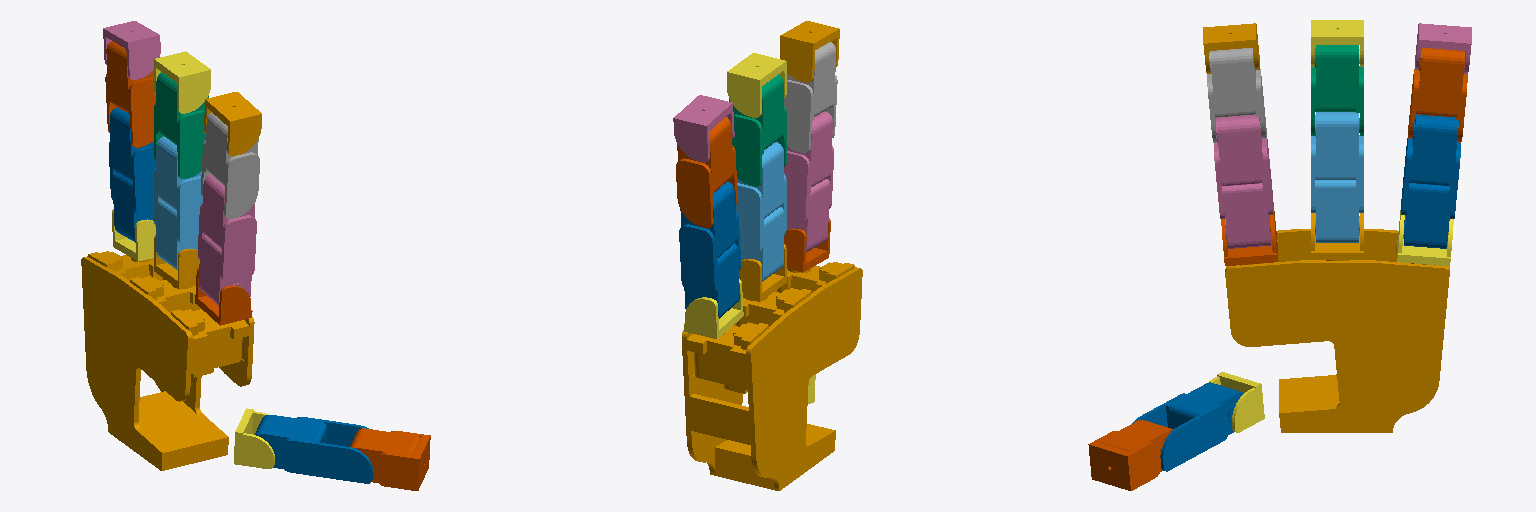
robot.urdf — allegro_left:
<?xml version="1.0" encoding="utf-8"?>
<robot name="allegro_left">
  <link name="base_link">
    <inertial>
      <mass value="0.4154"/>
      <origin rpy="0 0 0" xyz="0 0 0"/>
      <inertia ixx="1e-4" ixy="0" ixz="0" iyy="1e-4" iyz="0" izz="1e-4"/>
    </inertial>
    <visual>
      <geometry>
        <mesh filename="meshes/visual/base_link_left.obj"/>
      </geometry>
      <origin rpy="-1.570795 0 0" xyz="0 0 0 "/>
    </visual>
    <collision>
      <origin rpy="0 0 0" xyz="-0.009 0.0 -0.023"/>
      <geometry>
        <box size="0.0414 0.112 0.0448"/>
      </geometry>
    </collision>
    <collision>
      <origin rpy="0 0 0" xyz="-0.009 0.0253 -0.0667"/>
      <geometry>
        <box size="0.0414 0.0538 0.0428"/>
      </geometry>
    </collision>
    <collision>
      <origin rpy="0 0 0" xyz="-0.009300 0.00557 -0.08874"/>
      <geometry>
        <box size="0.0414 0.0720 0.013"/>
      </geometry>
    </collision>
  </link>

  <!--  virtual link-->
  <link name="palm"/>
  <joint name="palm_joint" type="fixed">
    <parent link="base_link"/>
    <child link="palm"/>
    <origin rpy="0.00000 -0.00000 0.00000" xyz="0 0 -0.065"/>
  </joint>

  <!--  virtual link-->
  <link name="wrist"/>
  <joint name="wrist_joint" type="fixed">
    <origin rpy="0 0 0" xyz="0 0 -0.03"/>
    <parent link="palm"/>
    <child link="wrist"/>
  </joint>

  <link name="link_0.0">
    <visual>
      <geometry>
        <mesh filename="meshes/visual/link_0.0.obj"/>
      </geometry>
    </visual>
    <collision>
      <geometry>
        <box size="0.0196 0.0275 0.0164"/>
      </geometry>
      <origin rpy="0 0 0" xyz="0 0 0.0082"/>
    </collision>
    <inertial>
      <mass value="0.005"/>
      <origin xyz="0 0 0"/>
      <inertia ixx="5.1458e-05" iyy="5.1458e-05" izz="6.125e-05" ixy="0" ixz="0" iyz="0"/>
    </inertial>
  </link>
  <joint name="joint_0.0" type="revolute">
    <axis xyz="0 0 1"/>
    <limit effort="10" lower="-0.47" upper="0.47" velocity="0"/>
    <parent link="base_link"/>
    <child link="link_0.0"/>
    <origin rpy="-0.08726646255 0 0" xyz="0 0.0435 -0.001542"/>
  </joint>
  <link name="link_1.0">
    <inertial>
      <mass value="0.125164"/>
      <origin xyz="0.027 0 0"/>
      <inertia ixx="6.39979e-06" iyy="8.88687e-05" izz="9.13751e-05" ixy="-3.26531e-06" ixz="1.23963e-05"
               iyz="2.07384e-05"/>
    </inertial>
    <visual>
      <geometry>
        <mesh filename="meshes/visual/link_1.0.obj"/>
      </geometry>
    </visual>
    <collision>
      <geometry>
        <box size="0.0196 0.0275 0.054"/>
      </geometry>
      <origin rpy="0 0 0" xyz="0 0 0.027"/>
    </collision>
  </link>
  <joint name="joint_1.0" type="revolute">
    <limit effort="10" lower="-0.196" upper="1.61" velocity="0"/>
    <axis xyz="0 1 0"/>
    <parent link="link_0.0"/>
    <child link="link_1.0"/>
    <origin xyz="0 0 0.0164"/>
  </joint>
  <link name="link_2.0">
    <inertial>
      <mass value="0.131691"/>
      <origin xyz="0.039 0 0"/>
      <inertia ixx="7.04217e-05" iyy="3.95744e-05" izz="6.61125e-05" ixy="-9.64342e-05" ixz="5.8796e-05"
               iyz="-3.62996e-05"/>
    </inertial>
    <visual>
      <geometry>
        <mesh filename="meshes/visual/link_2.0.obj"/>
      </geometry>
    </visual>
    <collision>
      <geometry>
        <box size="0.0196 0.0275 0.0384"/>
      </geometry>
      <origin rpy="0 0 0" xyz="0 0 0.0192"/>
    </collision>
  </link>
  <joint name="joint_2.0" type="revolute">
    <axis xyz="0 1 0"/>
    <limit effort="10" lower="-0.174" upper="1.709" velocity="0"/>
    <parent link="link_1.0"/>
    <child link="link_2.0"/>
    <origin xyz="0 0 0.054"/>
  </joint>
  <link name="link_3.0">
    <inertial>
      <mass value="0.0388"/>
      <origin xyz="0 0 0" rpy="0 0 0"/>
      <inertia ixx="3.29223173333e-05" ixy="8.042076e-06" ixz="5.2283e-06"
               iyy="1.47493026667e-5" iyz="1.1283525e-5" izz="3.29223173333e-05"/>
    </inertial>
    <visual>
      <geometry>
        <mesh filename="meshes/visual/link_3.0.obj"/>
      </geometry>
    </visual>
    <collision>
      <geometry>
        <box size="0.0196 0.0269 0.022"/>
      </geometry>
      <origin rpy="0 0 0" xyz="0 0 0.0047"/>
    </collision>
    <inertial>
      <origin rpy="0 0 0" xyz="0 0 0.01335"/>
      <mass value="0.02"/>
      <inertia ixx="1e-5" ixy="0.0" ixz="0.0" iyy="2e-5" iyz="0.0" izz="2e-5"/>
    </inertial>
  </link>
  <joint name="joint_3.0" type="revolute">
    <axis xyz="0 1 0"/>
    <limit effort="10" lower="-0.227" upper="1.618" velocity="0"/>
    <parent link="link_2.0"/>
    <child link="link_3.0"/>
    <origin xyz="0 0 0.0384"/>
  </joint>
  <link name="link_3.0_tip">
    <visual>
      <geometry>
        <mesh filename="meshes/visual/link_tip.obj"/>
      </geometry>
    </visual>
    <collision>
      <geometry>
      <mesh filename="meshes/collision/link_tip.obj"/>
      </geometry>
    </collision>
  </link>
  <joint name="joint_3.0_tip" type="fixed">
    <parent link="link_3.0"/>
    <child link="link_3.0_tip"/>
    <origin rpy="0 0 0" xyz="0 0 0.0267"/>
  </joint>
  <link name="link_4.0">
    <inertial>
      <mass value="0.005"/>
      <origin xyz="0 0 0"/>
      <inertia ixx="5.1458e-05" iyy="5.1458e-05" izz="6.125e-05" ixy="0" ixz="0" iyz="0"/>
    </inertial>
    <visual>
      <geometry>
        <mesh filename="meshes/visual/link_0.0.obj"/>
      </geometry>
    </visual>
    <collision>
      <geometry>
        <box size="0.0196 0.0275 0.0164"/>
      </geometry>
      <origin rpy="0 0 0" xyz="0 0 0.0082"/>
    </collision>
  </link>
  <joint name="joint_4.0" type="revolute">
    <axis xyz="0 0 1"/>
    <limit effort="10" lower="-0.47" upper="0.47" velocity="0"/>
    <parent link="base_link"/>
    <child link="link_4.0"/>
    <origin rpy="0.0 0 0" xyz="0 0 0.0007"/>
  </joint>
  <link name="link_5.0">
    <inertial>
      <mass value="0.125164"/>
      <origin xyz="0.027 0 0"/>
      <inertia ixx="6.39979e-06" iyy="8.88687e-05" izz="9.13751e-05" ixy="-3.26531e-06" ixz="1.23963e-05"
               iyz="2.07384e-05"/>
    </inertial>
    <visual>
      <geometry>
        <mesh filename="meshes/visual/link_1.0.obj"/>
      </geometry>
    </visual>
    <collision>
      <geometry>
        <box size="0.0196 0.0275 0.054"/>
      </geometry>
      <origin rpy="0 0 0" xyz="0 0 0.027"/>
    </collision>
  </link>
  <joint name="joint_5.0" type="revolute">
    <limit effort="10" lower="-0.196" upper="1.61" velocity="0"/>
    <axis xyz="0 1 0"/>
    <parent link="link_4.0"/>
    <child link="link_5.0"/>
    <origin xyz="0 0 0.0164"/>
  </joint>
  <link name="link_6.0">
    <inertial>
      <mass value="0.131691"/>
      <origin xyz="0.039 0 0"/>
      <inertia ixx="7.04217e-05" iyy="3.95744e-05" izz="6.61125e-05" ixy="-9.64342e-05" ixz="5.8796e-05"
               iyz="-3.62996e-05"/>
    </inertial>
    <visual>
      <geometry>
        <mesh filename="meshes/visual/link_2.0.obj"/>
      </geometry>
    </visual>
    <collision>
      <geometry>
        <box size="0.0196 0.0275 0.0384"/>
      </geometry>
      <origin rpy="0 0 0" xyz="0 0 0.0192"/>
    </collision>
  </link>
  <joint name="joint_6.0" type="revolute">
    <axis xyz="0 1 0"/>
    <limit effort="10" lower="-0.174" upper="1.709" velocity="0"/>
    <parent link="link_5.0"/>
    <child link="link_6.0"/>
    <origin xyz="0 0 0.054"/>
  </joint>
  <link name="link_7.0">
    <inertial>
      <mass value="0.0388"/>
      <origin xyz="0 0 0" rpy="0 0 0"/>
      <inertia ixx="3.29223173333e-05" ixy="8.042076e-06" ixz="5.2283e-06"
               iyy="1.47493026667e-5" iyz="1.1283525e-5" izz="3.29223173333e-05"/>
    </inertial>
    <visual>
      <geometry>
        <mesh filename="meshes/visual/link_3.0.obj"/>
      </geometry>
    </visual>
    <collision>
      <geometry>
        <box size="0.0196 0.0269 0.022"/>
      </geometry>
      <origin rpy="0 0 0" xyz="0 0 0.0047"/>
    </collision>
  </link>
  <joint name="joint_7.0" type="revolute">
    <axis xyz="0 1 0"/>
    <limit effort="10" lower="-0.227" upper="1.618" velocity="0"/>
    <parent link="link_6.0"/>
    <child link="link_7.0"/>
    <origin xyz="0 0 0.0384"/>
  </joint>
  <link name="link_7.0_tip">
    <visual>
      <geometry>
        <mesh filename="meshes/visual/link_tip.obj"/>
      </geometry>
    </visual>
    <collision>
      <geometry>
        <mesh filename="meshes/collision/link_tip.obj"/>
      </geometry>
    </collision>
  </link>
  <joint name="joint_7.0_tip" type="fixed">
    <parent link="link_7.0"/>
    <child link="link_7.0_tip"/>
    <origin rpy="0 0 0" xyz="0 0 0.0267"/>
  </joint>
  <link name="link_8.0">
    <inertial>
      <mass value="0.005"/>
      <origin xyz="0 0 0"/>
      <inertia ixx="5.1458e-05" iyy="5.1458e-05" izz="6.125e-05" ixy="0" ixz="0" iyz="0"/>
    </inertial>
    <visual>
      <geometry>
        <mesh filename="meshes/visual/link_0.0.obj"/>
      </geometry>
    </visual>
    <collision>
      <geometry>
        <box size="0.0196 0.0275 0.0164"/>
      </geometry>
      <origin rpy="0 0 0" xyz="0 0 0.0082"/>
    </collision>
  </link>
  <joint name="joint_8.0" type="revolute">
    <axis xyz="0 0 1"/>
    <limit effort="10" lower="-0.47" upper="0.47" velocity="0"/>
    <parent link="base_link"/>
    <child link="link_8.0"/>
    <origin rpy="0.08726646255 0 0" xyz="0 -0.0435 -0.001542"/>
  </joint>
  <link name="link_9.0">
    <inertial>
      <mass value="0.125164"/>
      <origin xyz="0.027 0 0"/>
      <inertia ixx="6.39979e-06" iyy="8.88687e-05" izz="9.13751e-05" ixy="-3.26531e-06" ixz="1.23963e-05"
               iyz="2.07384e-05"/>
    </inertial>
    <visual>
      <geometry>
        <mesh filename="meshes/visual/link_1.0.obj"/>
      </geometry>
    </visual>
    <collision>
      <geometry>
        <box size="0.0196 0.0275 0.054"/>
      </geometry>
      <origin rpy="0 0 0" xyz="0 0 0.027"/>
    </collision>
  </link>
  <joint name="joint_9.0" type="revolute">
    <limit effort="10" lower="-0.196" upper="1.61" velocity="0"/>
    <axis xyz="0 1 0"/>
    <parent link="link_8.0"/>
    <child link="link_9.0"/>
    <origin xyz="0 0 0.0164"/>
  </joint>
  <link name="link_10.0">
    <inertial>
      <mass value="0.131691"/>
      <origin xyz="0.039 0 0"/>
      <inertia ixx="7.04217e-05" iyy="3.95744e-05" izz="6.61125e-05" ixy="-9.64342e-05" ixz="5.8796e-05"
               iyz="-3.62996e-05"/>
    </inertial>
    <visual>
      <geometry>
        <mesh filename="meshes/visual/link_2.0.obj"/>
      </geometry>
    </visual>
    <collision>
      <geometry>
        <box size="0.0196 0.0275 0.0384"/>
      </geometry>
      <origin rpy="0 0 0" xyz="0 0 0.0192"/>
    </collision>
  </link>
  <joint name="joint_10.0" type="revolute">
    <axis xyz="0 1 0"/>
    <limit effort="10" lower="-0.174" upper="1.709" velocity="0"/>
    <parent link="link_9.0"/>
    <child link="link_10.0"/>
    <origin xyz="0 0 0.054"/>
  </joint>
  <link name="link_11.0">
    <inertial>
      <mass value="0.0388"/>
      <origin xyz="0 0 0" rpy="0 0 0"/>
      <inertia ixx="3.29223173333e-05" ixy="8.042076e-06" ixz="5.2283e-06"
               iyy="1.47493026667e-5" iyz="1.1283525e-5" izz="3.29223173333e-05"/>
    </inertial>
    <visual>
      <geometry>
        <mesh filename="meshes/visual/link_3.0.obj"/>
      </geometry>
    </visual>
    <collision>
      <geometry>
        <box size="0.0196 0.0269 0.022"/>
      </geometry>
      <origin rpy="0 0 0" xyz="0 0 0.0047"/>
    </collision>
  </link>
  <joint name="joint_11.0" type="revolute">
    <axis xyz="0 1 0"/>
    <limit effort="10" lower="-0.227" upper="1.618" velocity="0"/>
    <parent link="link_10.0"/>
    <child link="link_11.0"/>
    <origin xyz="0 0 0.0384"/>
  </joint>
  <link name="link_11.0_tip">
    <visual>
      <geometry>
        <mesh filename="meshes/visual/link_tip.obj"/>
      </geometry>
    </visual>
    <collision>
      <geometry>
        <mesh filename="meshes/collision/link_tip.obj"/>
      </geometry>
    </collision>
  </link>
  <joint name="joint_11.0_tip" type="fixed">
    <parent link="link_11.0"/>
    <child link="link_11.0_tip"/>
    <origin rpy="0 0 0" xyz="0 0 0.0267"/>
  </joint>
  <!-- THUMB -->
  <link name="link_12.0">
    <inertial>
      <mass value="0.005"/>
      <origin xyz="0 0 0"/>
      <inertia ixx="5.1458e-05" iyy="5.1458e-05" izz="6.125e-05" ixy="0" ixz="0" iyz="0"/>
    </inertial>
    <visual>
      <geometry>
        <mesh filename="meshes/visual/link_12.0_left.obj"/>
      </geometry>
      <origin rpy="3.14159 0 0" xyz="0 0 0"/>
    </visual>
    <collision>
      <geometry>
        <box size="0.0358 0.034 0.0455"/>
      </geometry>
      <origin rpy="0 0 0" xyz="-0.0179 -0.009 0.0145"/>
    </collision>
  </link>
  <joint name="joint_12.0" type="revolute">
    <axis xyz="1 0 0"/>
    <limit effort="10" lower="0.263" upper="1.396" velocity="0"/>
    <parent link="base_link"/>
    <child link="link_12.0"/>
    <origin xyz="-0.0182 -0.019333 -0.045987" rpy="0 -1.65806278845 1.5707963259"/>
  </joint>
  <link name="link_13.0">
    <inertial>
      <mass value="0.125164"/>
      <origin xyz="0.027 0 0"/>
      <inertia ixx="6.39979e-06" iyy="8.88687e-05" izz="9.13751e-05" ixy="-3.26531e-06" ixz="1.23963e-05"
               iyz="2.07384e-05"/>
    </inertial>
    <visual>
      <geometry>
        <mesh filename="meshes/visual/link_13.0.obj"/>
      </geometry>
    </visual>
    <collision>
      <geometry>
        <box size="0.0196 0.0275 0.0177"/>
      </geometry>
      <origin rpy="0 0 0" xyz="0 0 0.00885"/>
    </collision>
  </link>
  <joint name="joint_13.0" type="revolute">
    <axis xyz="0 0 -1"/>
    <limit effort="10" lower="-0.105" upper="1.163" velocity="0"/>
    <parent link="link_12.0"/>
    <child link="link_13.0"/>
    <origin xyz="-0.027 0.005 0.0399"/>
  </joint>
  <link name="link_14.0">
    <inertial>
      <mass value="0.131691"/>
      <origin xyz="0.039 0 0"/>
      <inertia ixx="7.04217e-05" iyy="3.95744e-05" izz="6.61125e-05" ixy="-9.64342e-05" ixz="5.8796e-05"
               iyz="-3.62996e-05"/>
    </inertial>
    <visual>
      <geometry>
        <mesh filename="meshes/visual/link_14.0.obj"/>
      </geometry>
    </visual>
    <collision>
      <geometry>
        <box size="0.0196 0.0275 0.0514"/>
      </geometry>
      <origin rpy="0 0 0" xyz="0 0 0.0257"/>
    </collision>
  </link>
  <joint name="joint_14.0" type="revolute">
    <axis xyz="0 1 0"/>
    <limit effort="10" lower="-0.189" upper="1.644" velocity="0"/>
    <parent link="link_13.0"/>
    <child link="link_14.0"/>
    <origin xyz="0 0 0.0177"/>
  </joint>
  <link name="link_15.0">
    <inertial>
      <mass value="0.0388"/>
      <origin xyz="0 0 0" rpy="0 0 0"/>
      <inertia ixx="3.29223173333e-05" ixy="8.042076e-06" ixz="5.2283e-06"
               iyy="1.47493026667e-5" iyz="1.1283525e-5" izz="3.29223173333e-05"/>
    </inertial>
    <visual>
      <geometry>
        <mesh filename="meshes/visual/link_15.0.obj"/>
      </geometry>
    </visual>
    <collision>
      <geometry>
        <box size="0.0196 0.0269 0.04"/>
      </geometry>
      <origin rpy="0 0 0" xyz="0 0 0.01125"/>
    </collision>
  </link>
  <joint name="joint_15.0" type="revolute">
    <axis xyz="0 1 0"/>
    <limit effort="10" lower="-0.162" upper="1.719" velocity="0"/>
    <parent link="link_14.0"/>
    <child link="link_15.0"/>
    <origin xyz="0 0 0.0514"/>
  </joint>
  <link name="link_15.0_tip">
    <visual>
      <geometry>
        <mesh filename="meshes/visual/link_tip.obj"/>
      </geometry>
    </visual>
    <collision>
      <geometry>
        <mesh filename="meshes/collision/link_tip.obj"/>
      </geometry>
    </collision>
  </link>
  <joint name="joint_15.0_tip" type="fixed">
    <parent link="link_15.0"/>
    <child link="link_15.0_tip"/>
    <origin rpy="0 0 0" xyz="0 0 0.0423"/>
  </joint>
</robot>

--- Facts derived from the render (not from the file) ---
3 views of the same robot in one strip: view 1: azimuth 30°, elevation 25°; view 2: azimuth 150°, elevation 25°; view 3: azimuth 270°, elevation 25° (orthographic).
Model allegro_left with 23 links and 22 joints (16 revolute, 6 fixed), rooted at base_link, posed all joints at 0 but 1 set to mid-range because 0 is outside their limits (joint_12.0 = 0.8295).
Links seen in each view (by area): view 1: base_link, link_14.0, link_9.0, link_5.0, link_1.0, link_15.0, link_10.0, link_6.0, link_2.0, link_11.0, link_7.0, link_3.0 (+4 smaller); view 2: base_link, link_1.0, link_5.0, link_9.0, link_2.0, link_6.0, link_10.0, link_3.0, link_7.0, link_11.0, link_0.0, link_4.0 (+1 smaller); view 3: base_link, link_9.0, link_1.0, link_5.0, link_14.0, link_15.0, link_10.0, link_2.0, link_6.0, link_13.0, link_3.0, link_11.0 (+4 smaller).
Boxes of the visible links, box(x1,y1,x2,y2) form: base_link: box(81, 251, 254, 470); link_14.0: box(255, 415, 373, 483); link_9.0: box(198, 174, 256, 305); link_5.0: box(154, 136, 202, 270); link_1.0: box(109, 107, 155, 242); link_15.0: box(350, 428, 430, 490); link_10.0: box(201, 112, 259, 219); link_6.0: box(154, 72, 208, 178); link_2.0: box(105, 41, 155, 147); link_11.0: box(204, 92, 261, 156); link_7.0: box(154, 51, 210, 113); link_3.0: box(103, 21, 160, 79); base_link: box(682, 262, 862, 490); link_1.0: box(679, 181, 740, 318); link_5.0: box(736, 142, 786, 281); link_9.0: box(784, 111, 833, 252); link_2.0: box(676, 117, 737, 228); link_6.0: box(729, 74, 786, 186); link_10.0: box(784, 42, 837, 153); link_3.0: box(673, 95, 734, 162); link_7.0: box(727, 53, 786, 117); link_11.0: box(780, 21, 839, 82); link_0.0: box(684, 279, 743, 338); link_4.0: box(739, 244, 786, 301); base_link: box(1225, 229, 1449, 432); link_9.0: box(1214, 115, 1273, 248); link_1.0: box(1401, 114, 1460, 248); link_5.0: box(1311, 112, 1363, 242); link_14.0: box(1132, 382, 1243, 471); link_15.0: box(1088, 420, 1173, 490); link_10.0: box(1207, 48, 1266, 142); link_2.0: box(1408, 48, 1467, 142); link_6.0: box(1311, 45, 1363, 135); link_13.0: box(1208, 372, 1264, 432); link_3.0: box(1415, 23, 1471, 73); link_11.0: box(1203, 23, 1259, 73).
Bounding box of the posed robot: 0.1205 × 0.1936 × 0.2202 m (x, y, z).
Meshes: 10 distinct files referenced, 16 mesh visuals loaded (8 OBJ); not drawn: 5 (reference not matched to a file when rendering).